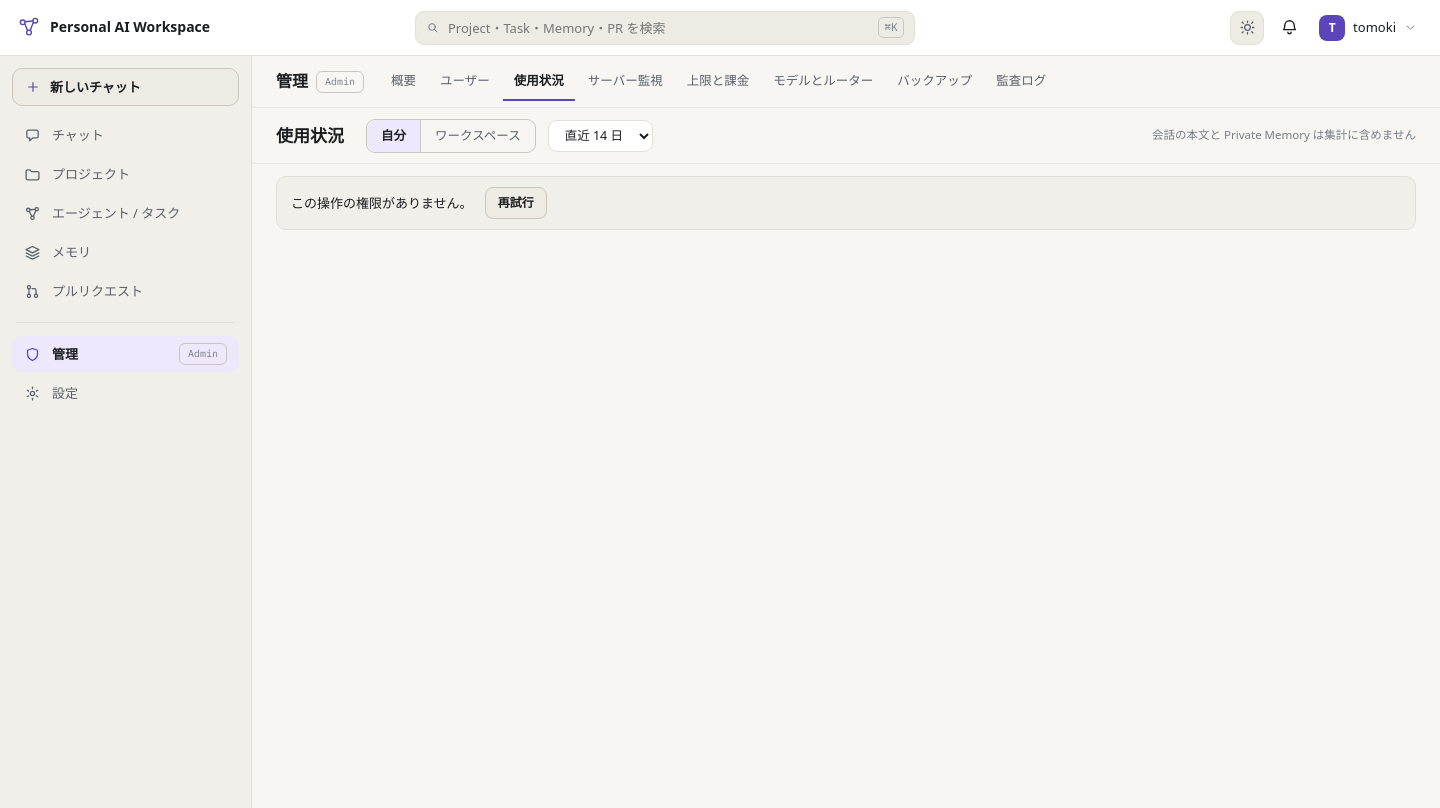
Test case: 使用状況 › shows the Backend's refusal and retries
Expected: the message "この操作の権限がありません。" is shown, [291,193,473,213]
What coordinates should you click on to do the following:
click the button "再試行"
I would click on:
 (516, 203)
Its box is [485,187,547,219].
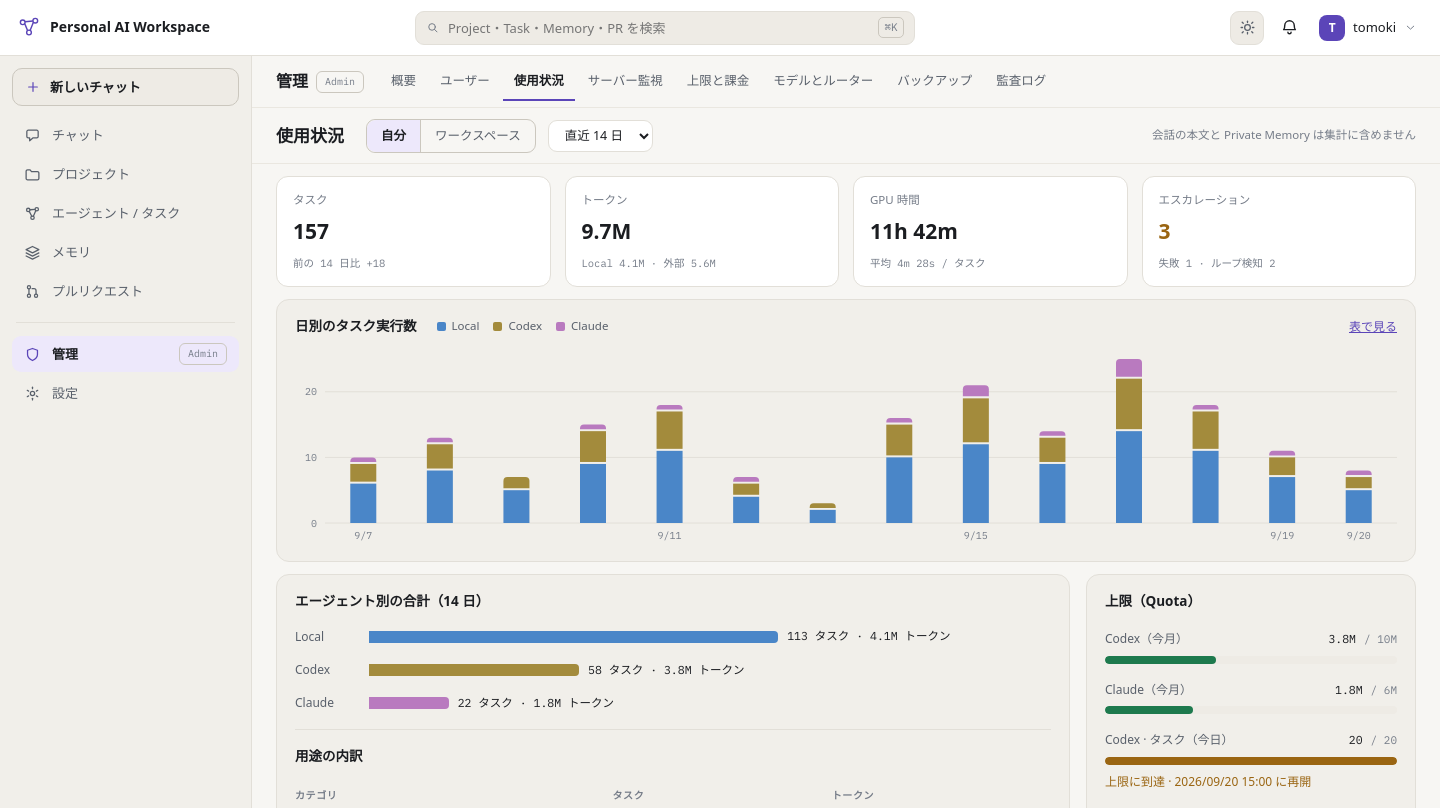
Expected: the text "157" is shown, [293,217,329,245]
